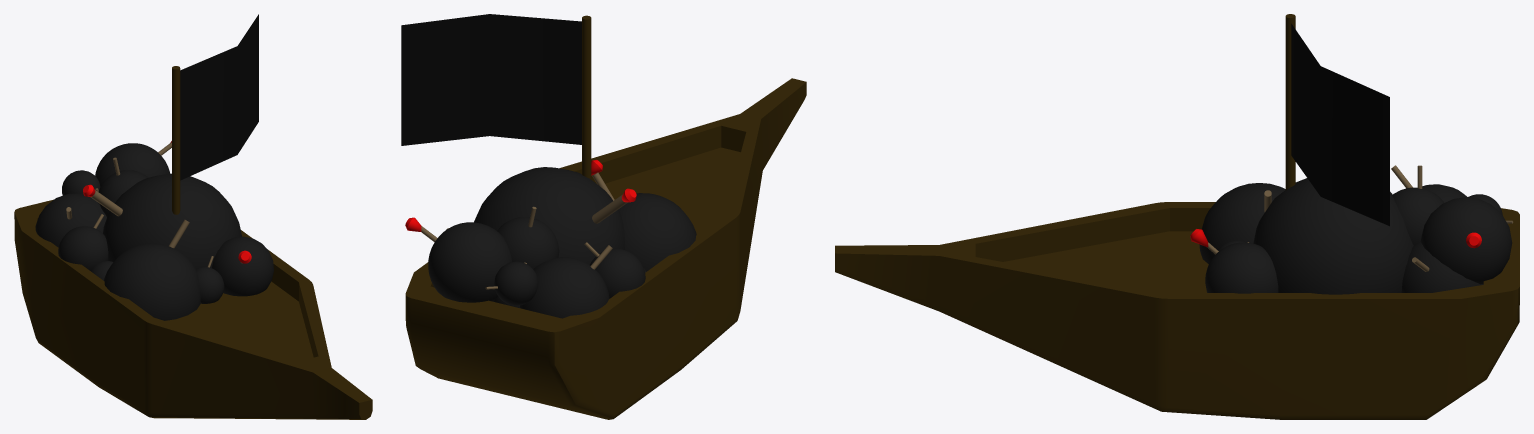
The model's file is tobyboat.fbx.
The picture shows the model from 3 angles, left to right: view 1: azimuth 30°, elevation 25°; view 2: azimuth 150°, elevation 25°; view 3: azimuth 270°, elevation 25°; orthographic projection. The views are drawn at different scales.
Parts seen in each view (by area): view 1: tobybase, flag, bomb3, bomb5, bomb6, bomb4, bomb11, bomb9, Mast, bomb10, bomb7, bomb12; view 2: tobybase, flag, bomb3, bomb11, flag1, bomb5, bomb4, bomb10, bomb9, Mast, bomb12; view 3: tobybase, flag, bomb3, bomb11, bomb5, bomb6, bomb1, bomb10, Mast, bomb4.
Boxes of the visible parts, x1,y1,x2,y2 form: tobybase: (14,199,372,419); flag: (180,14,258,180); bomb3: (90,173,241,268); bomb5: (104,219,200,320); bomb6: (212,236,273,296); bomb4: (35,193,106,247); bomb11: (95,142,171,186); bomb9: (58,214,108,270); Mast: (172,66,180,214); bomb10: (98,157,148,216); bomb7: (196,256,224,303); bomb12: (62,170,100,195); tobybase: (405,78,806,419); flag: (401,14,581,145); bomb3: (474,167,627,264); bomb11: (421,222,511,302); flag1: (401,14,581,142); bomb5: (592,172,696,271); bomb4: (520,245,612,318); bomb10: (497,206,559,268); bomb9: (584,242,645,298); Mast: (582,15,591,179); bomb12: (485,261,538,305); tobybase: (835,202,1519,419); flag: (1291,23,1389,226); bomb3: (1253,178,1413,294); bomb11: (1420,197,1512,284); bomb5: (1199,183,1285,264); bomb6: (1205,242,1278,293); bomb1: (1401,241,1483,292); bomb10: (1392,165,1444,245); Mast: (1285,14,1295,190); bomb4: (1391,165,1467,202).
Bounding box in the file's own units: 6.25 × 8.64 × 14.93.
